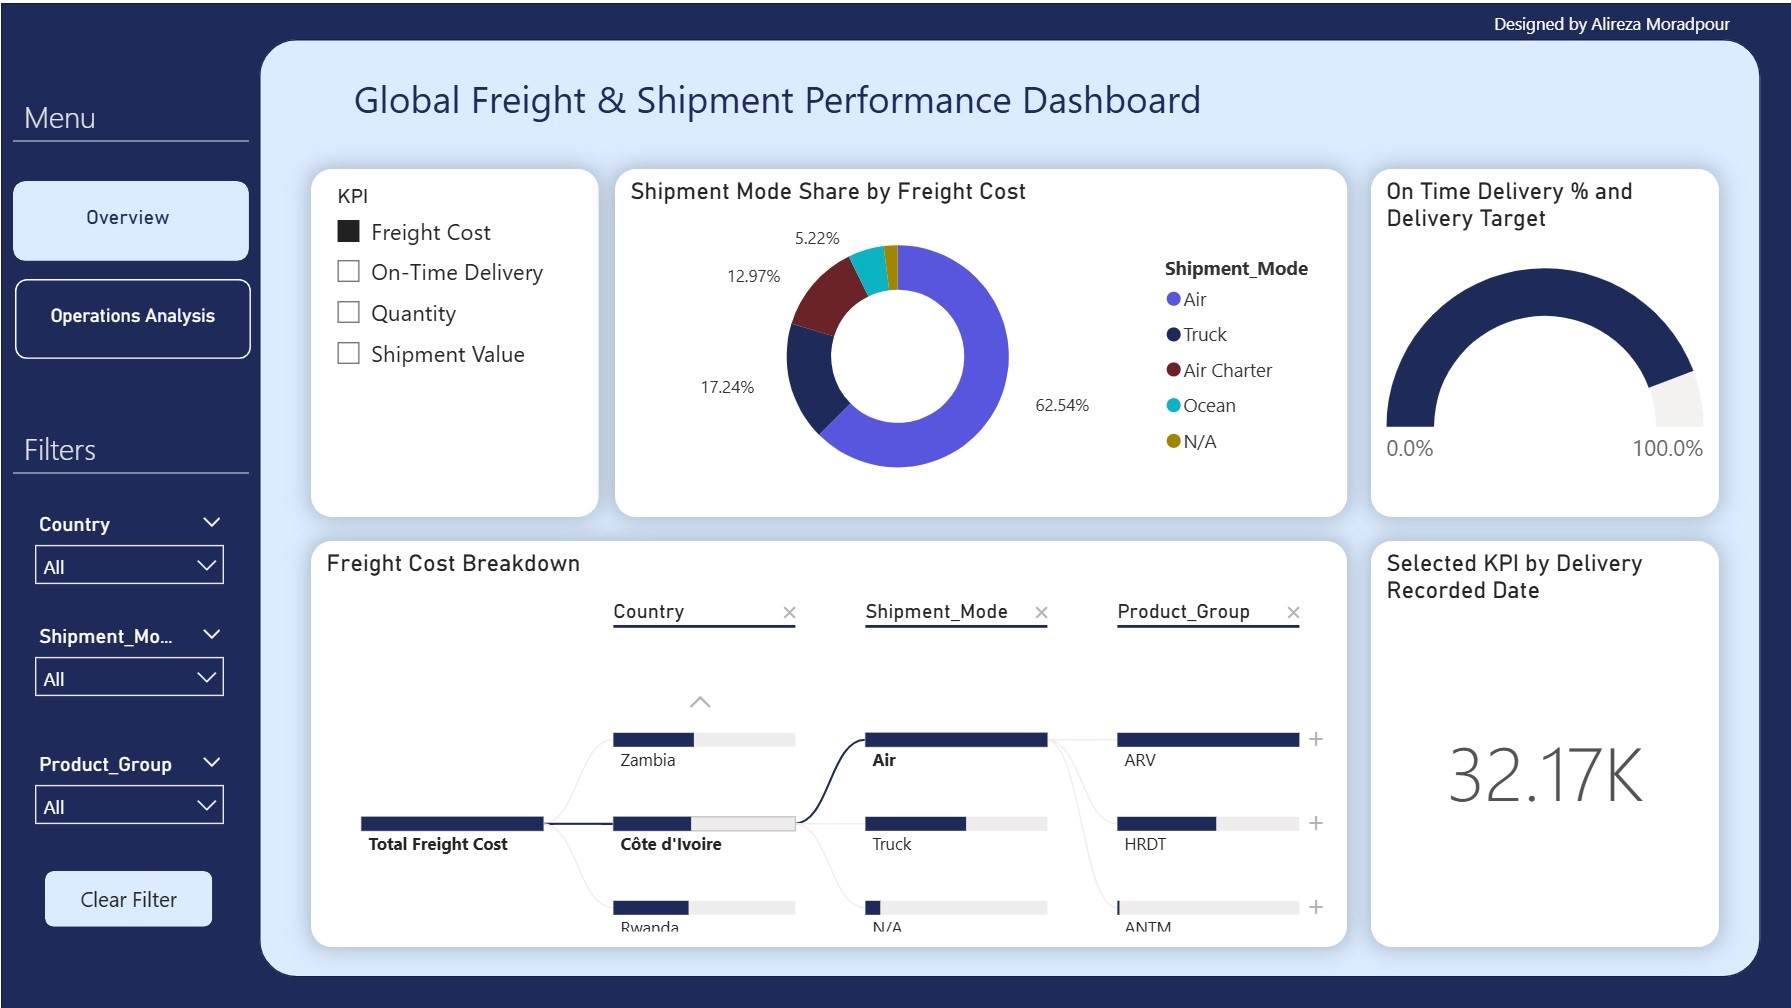

What the dashboard file says about the page in this screenshot:
{"tool":"powerbi","page":{"name":"Operations Analysis","canvas":[1280,720],"ordinal":1},"visuals":[{"type":"shape","box":[0,0,1280,720],"z":0},{"type":"shape","box":[184,26.1,1072.6,670.2],"z":1000},{"type":"decompositionTreeVisual","title":"Freight Cost Breakdown","fields":{"Analyze":["SCMS_Delivery_History_Dataset.Total Freight Cost"],"ExplainBy":["SCMS_Delivery_History_Dataset.Country","SCMS_Delivery_History_Dataset.Shipment_Mode","SCMS_Delivery_History_Dataset.Product_Group","SCMS_Delivery_History_Dataset.Vendor"]},"box":[221.4,384.3,740,290],"z":2000},{"type":"group","id":"g1","title":"Group 1","box":[7.9,127,168.6,57.1],"z":3000},{"type":"group","id":"g2","title":"Group 2","box":[10,197.6,168.6,57.1],"z":4000},{"type":"slicer","fields":{"Values":["SCMS_Delivery_History_Dataset.Country"]},"box":[14.3,359,155.2,149.7],"z":5000},{"type":"slicer","fields":{"Values":["SCMS_Delivery_History_Dataset.Shipment_Mode"]},"box":[14.3,438.7,155.2,149.7],"z":6000},{"type":"slicer","fields":{"Values":["SCMS_Delivery_History_Dataset.Product_Group"]},"box":[14.3,530.7,155.2,149.7],"z":7000},{"type":"actionButton","box":[32.1,619.8,119.5,39.8],"z":8000},{"type":"textbox","box":[247.1,44.3,638.6,57.1],"z":9000},{"type":"textbox","box":[11.4,61.4,94.3,42.9],"z":10000},{"type":"shape","box":[8.6,84.3,168.6,28.6],"z":11000},{"type":"textbox","box":[11.4,298,94.3,42.9],"z":12000},{"type":"shape","box":[8.6,320.9,168.6,28.6],"z":13000},{"type":"slicer","fields":{"Values":["KPI Selector.KPI"]},"box":[221.4,118.6,205.7,248.6],"z":14000},{"type":"donutChart","fields":{"Category":["SCMS_Delivery_History_Dataset.Shipment_Mode"],"Y":["KPI Selector.Selected KPI"]},"box":[438.6,118.6,522.9,248.6],"z":15000},{"type":"gauge","fields":{"Y":["SCMS_Delivery_History_Dataset.On Time Delivery %"],"TargetValue":["KPI Selector.Delivery Target"]},"box":[978.6,118.6,248.6,248.6],"z":16000},{"type":"shape","box":[7.9,127,168.6,57.1],"z":17000,"group":"g3"},{"type":"kpi","fields":{"Indicator":["KPI Selector.Selected KPI"],"TrendLine":["SCMS_Delivery_History_Dataset.Delivery Recorded Date"]},"box":[978.6,384.3,248.6,290],"z":17000},{"type":"textbox","box":[1050,0,190,28.6],"z":18000},{"type":"textbox","box":[40.7,139.1,98.6,32.9],"z":18000,"group":"g3"},{"type":"group","id":"g3","title":"Group 3","box":[7.9,127,168.6,57.1],"z":18001,"group":"g1"},{"type":"shape","box":[10,197.6,168.6,57.1],"z":20000,"group":"g2"},{"type":"textbox","box":[21.4,209,145.7,34.3],"z":20500,"group":"g2"}]}

Visuals, with their boxes in screenshot pixels (x1, y1, x2, y2), scaled from the page's 1280x720 canvas onto the 1791x1008 screenshot:
shape: (0,0,1790,1007)
shape: (257,37,1758,975)
"Freight Cost Breakdown" decompositionTreeVisual: (310,538,1345,944)
"Group 1" group: (11,178,247,258)
"Group 2" group: (14,277,250,357)
slicer - SCMS_Delivery_History_Dataset.Country: (20,503,237,712)
slicer - SCMS_Delivery_History_Dataset.Shipment_Mode: (20,614,237,824)
slicer - SCMS_Delivery_History_Dataset.Product_Group: (20,743,237,953)
actionButton: (45,868,212,923)
textbox: (346,62,1239,142)
textbox: (16,86,148,146)
shape: (12,118,248,158)
textbox: (16,417,148,477)
shape: (12,449,248,489)
slicer - KPI Selector.KPI: (310,166,598,514)
donutChart - SCMS_Delivery_History_Dataset.Shipment_Mode x KPI Selector.Selected KPI: (614,166,1345,514)
gauge - SCMS_Delivery_History_Dataset.On Time Delivery % x KPI Selector.Delivery Target: (1369,166,1717,514)
shape: (11,178,247,258)
kpi - KPI Selector.Selected KPI x SCMS_Delivery_History_Dataset.Delivery Recorded Date: (1369,538,1717,944)
textbox: (1469,0,1735,40)
textbox: (57,195,195,241)
"Group 3" group: (11,178,247,258)
shape: (14,277,250,357)
textbox: (30,293,234,341)
